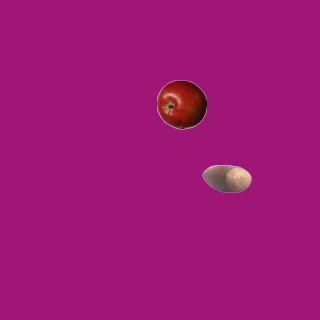Apple Braeburn: (156, 79, 206, 129)
Hazelnut: (201, 153, 251, 203)
